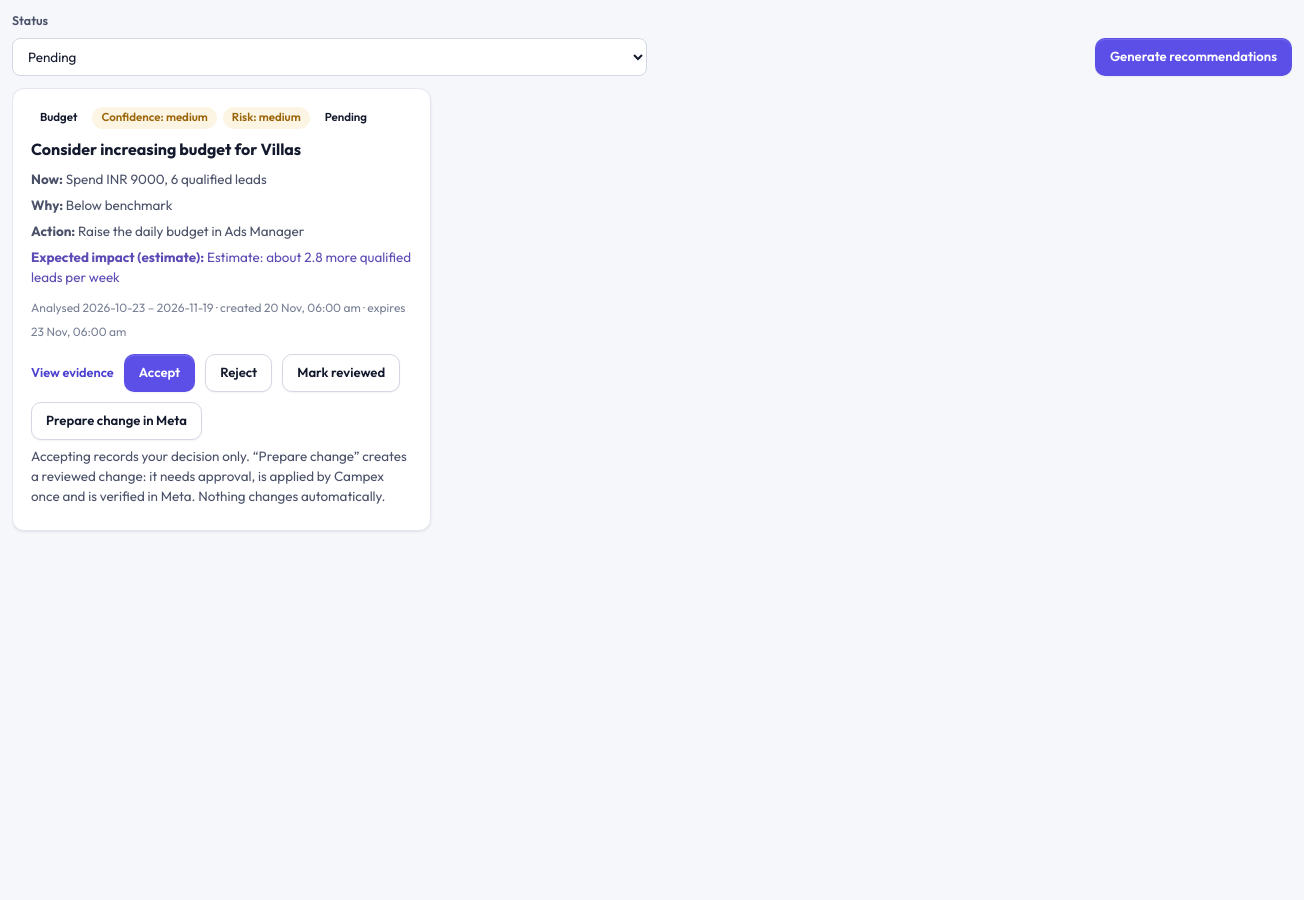
Scenario: Recommendation cards › show estimates, evidence with sources, and record decisions without changing Meta
The width and height of the screenshot is (1304, 900).
Expected: the text "Expected impact (estimate):" is shown, [31, 249, 204, 265]
Expected: the text "Confidence: medium" is shown, [92, 107, 217, 129]
Click the button "View evidence" at [72, 372], box [31, 358, 114, 386]
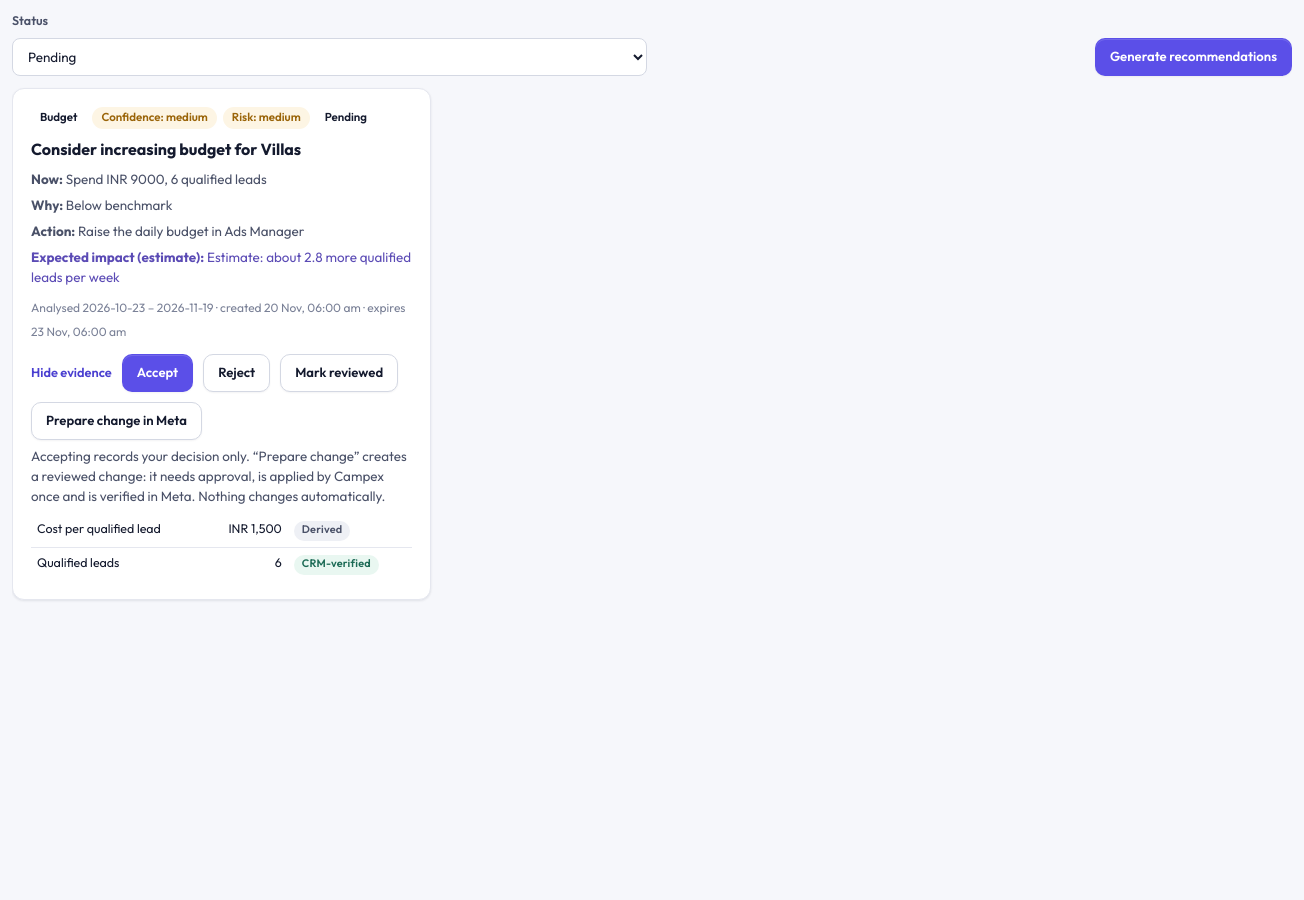
Expected: the text "CRM-verified" is shown, [294, 555, 379, 575]
Expected: the text "INR 1,500" is shown, [204, 514, 288, 548]
Click the button "Accept" at [158, 372], box [122, 354, 193, 392]
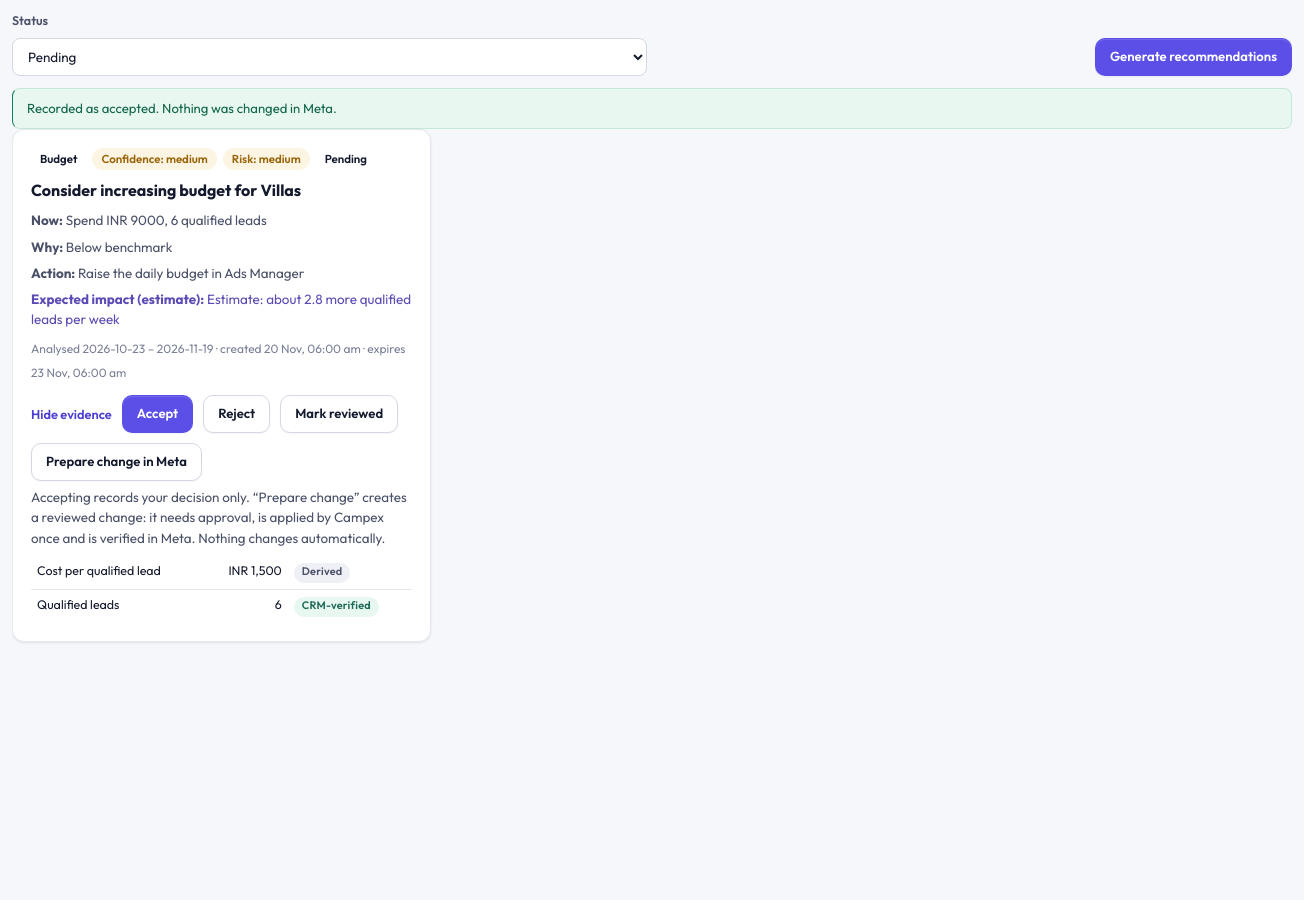
Expected: the text "Recorded as accepted. Nothing was changed in Meta." is shown, [12, 88, 1292, 129]
